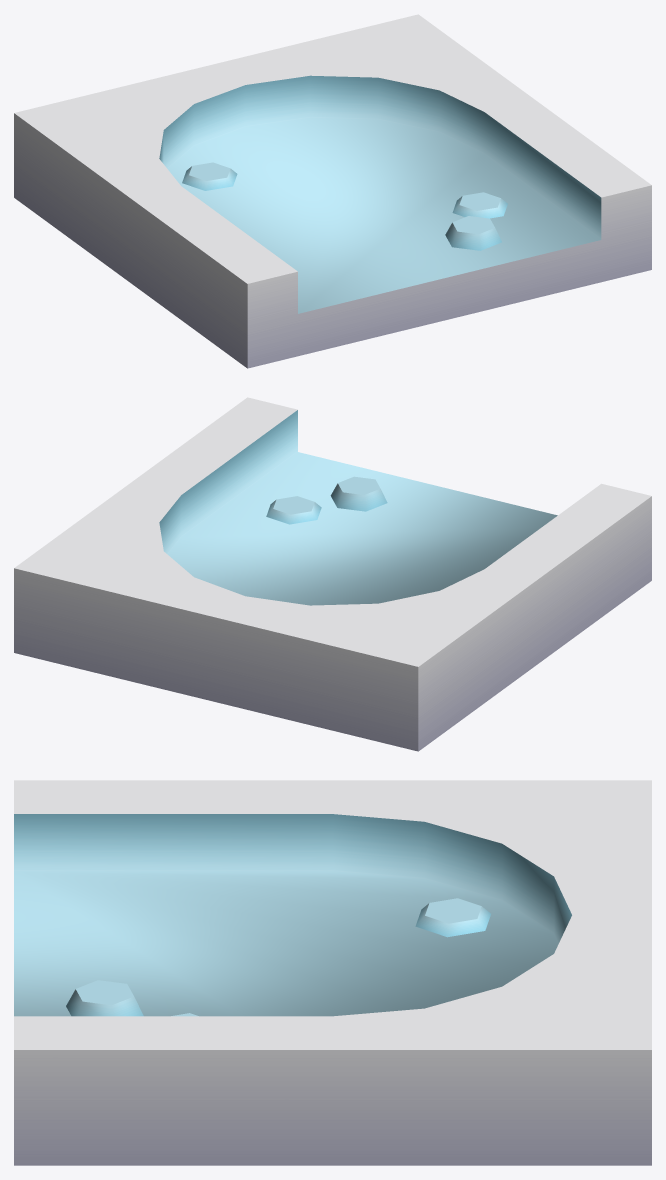
File: snow-tile-end-round.fbx
3 views of the same model, one above another, from view 1: azimuth 30°, elevation 25°; view 2: azimuth 150°, elevation 25°; view 3: azimuth 270°, elevation 25° (orthographic). The views are drawn at different scales.
Parts seen in each view (by area): view 1: snow-tile-end-round; view 2: snow-tile-end-round; view 3: snow-tile-end-round.
Boxes of the visible parts, box(x1,y1,x2,y2) form: snow-tile-end-round: box(14, 14, 651, 368); snow-tile-end-round: box(14, 397, 651, 751); snow-tile-end-round: box(14, 780, 651, 1165).
Size of the model in its own units: 100 by 20 by 100.
